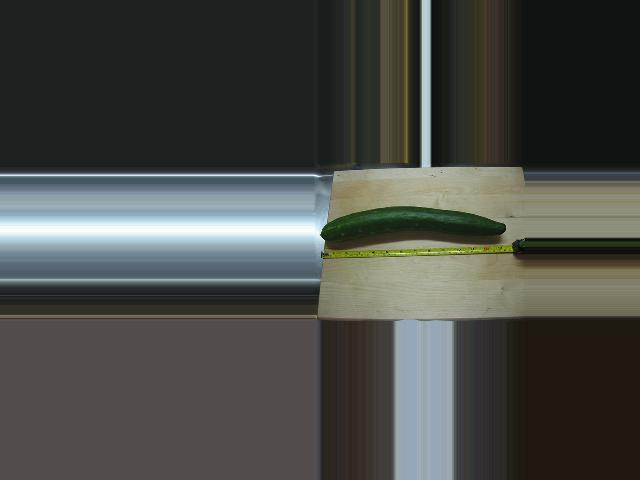cucumber: (320, 206, 506, 242)
